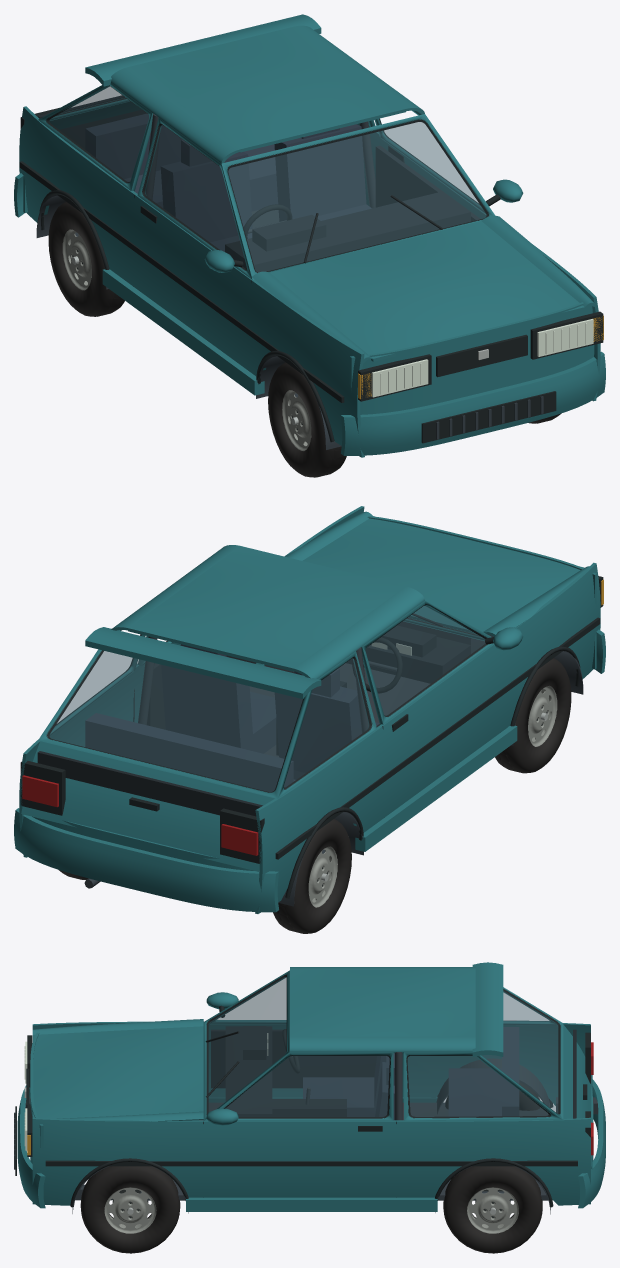
The model's file is kite.glb.
The picture shows the model from 3 angles, top to bottom: view 1: azimuth 30°, elevation 25°; view 2: azimuth 150°, elevation 25°; view 3: azimuth 270°, elevation 25°; orthographic projection. The views are drawn at different scales.
Parts seen in each view (by area): view 1: glass_FrontKite, panel_hoodKite, panel_RoofKite, panel_BodyDoorLKite, panel_KitefrontValance, panel_bumper_frontKite, panel_RearQuarterLKite, panel_FrontWingLKite, Interior Kite Dashboard, glass_BodyDoorLKite, Interior Kite SeatBack1, Interior Kite SeatBack-1 (+34 smaller); view 2: glass_TailgateKite, panel_RoofKite, panel_hoodKite, panel_bumper_rearKite, panel_BodyDoorLKite, panel_TailgateKiteSkin, panel_RearQuarterLKite, Interior Kite RearBack, glass_BodyDoorLKite, panel_FrontWingLKite, Interior Kite SeatBack1, panel_TailgateKiteSpoiler (+36 smaller); view 3: panel_hoodKite, panel_BodyDoorRKite, panel_RoofKite, panel_RearQuarterRKite, panel_FrontWingRKite, glass_BodyDoorRKite, glass_FrontKite, glass_QuarterRKite, Tire_Tern_Carcass_RR, Tire_Tern_Carcass_FR, glass_TailgateKite, panel_RearQuarterLKite (+38 smaller).
Part boxes in pixels (x1,y1,x2,y2): glass_FrontKite: (228,122,486,272); panel_hoodKite: (270,221,584,361); panel_RoofKite: (128,26,405,152); panel_BodyDoorLKite: (130,194,251,371); panel_KitefrontValance: (349,302,594,415); panel_bumper_frontKite: (340,351,605,455); panel_RearQuarterLKite: (19,106,137,285); panel_FrontWingLKite: (247,279,364,457); Interior Kite Dashboard: (225,191,470,272); glass_BodyDoorLKite: (145,125,246,268); Interior Kite SeatBack1: (274,124,366,221); Interior Kite SeatBack-1: (160,152,252,242); glass_TailgateKite: (49,651,302,791); panel_RoofKite: (128,546,405,671); panel_hoodKite: (302,516,584,633); panel_bumper_rearKite: (14,808,278,912); panel_BodyDoorLKite: (380,644,503,817); panel_TailgateKiteSkin: (21,741,274,871); panel_RearQuarterLKite: (255,725,386,913); Interior Kite RearBack: (85,713,293,791); glass_BodyDoorLKite: (365,605,485,715); panel_FrontWingLKite: (501,562,600,731); Interior Kite SeatBack1: (161,665,253,749); panel_TailgateKiteSpoiler: (85,627,321,699); panel_hoodKite: (32,1026,203,1118); panel_BodyDoorRKite: (203,1120,396,1197); panel_RoofKite: (290,970,475,1036); panel_RearQuarterRKite: (396,1117,590,1205); panel_FrontWingRKite: (32,1117,203,1205); glass_BodyDoorRKite: (225,1056,389,1116); glass_FrontKite: (208,977,286,1111); glass_QuarterRKite: (407,1056,548,1116); Tire_Tern_Carcass_RR: (443,1166,542,1253); Tire_Tern_Carcass_FR: (80,1166,180,1253); glass_TailgateKite: (482,991,558,1113); panel_RearQuarterLKite: (402,1023,590,1105).
Size of the model in its own units: 2.03 by 1.55 by 4.05.
